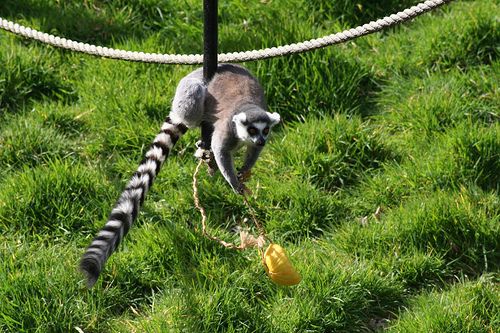cat: (78, 66, 286, 278)
